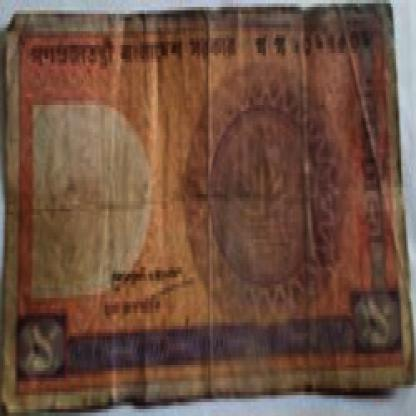One Taka: (18, 319, 65, 378), (353, 294, 399, 354)
